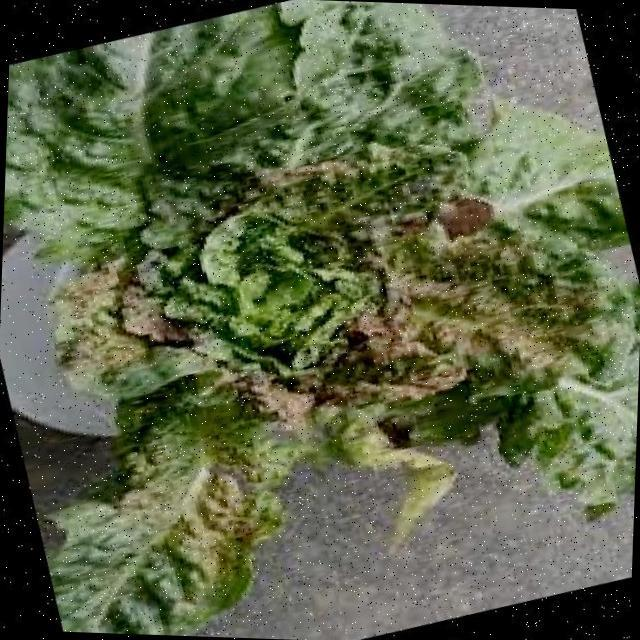Lettuce Mosaic Virus: (78, 95, 572, 483)
